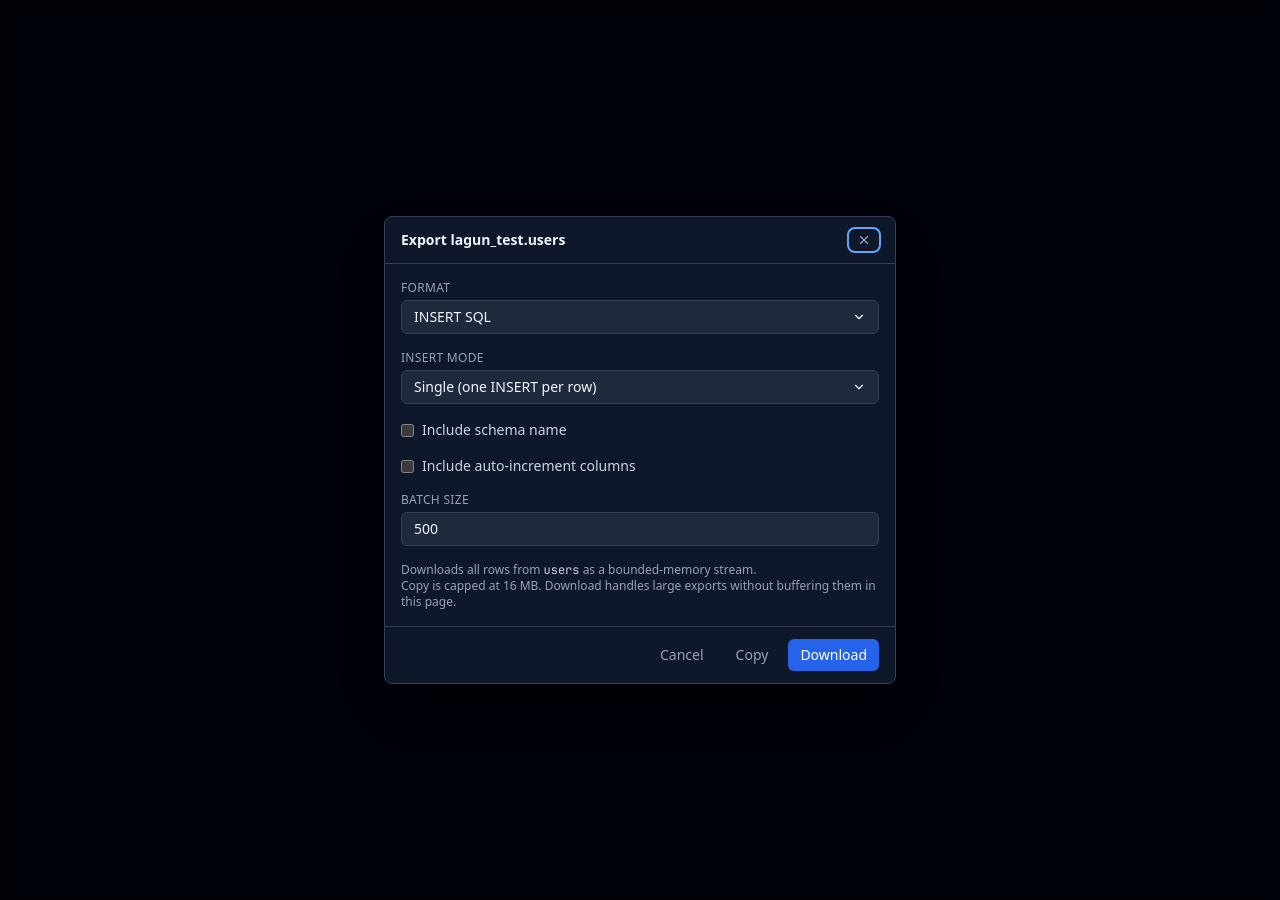
Test: ExportDialog copy stream guard › accepts a SQL body that carries the completion marker
What coordinates should you click on to do the following:
click the button "Copy"
I would click on:
 (752, 655)
Its box is x1=724 y1=639 x2=780 y2=671.
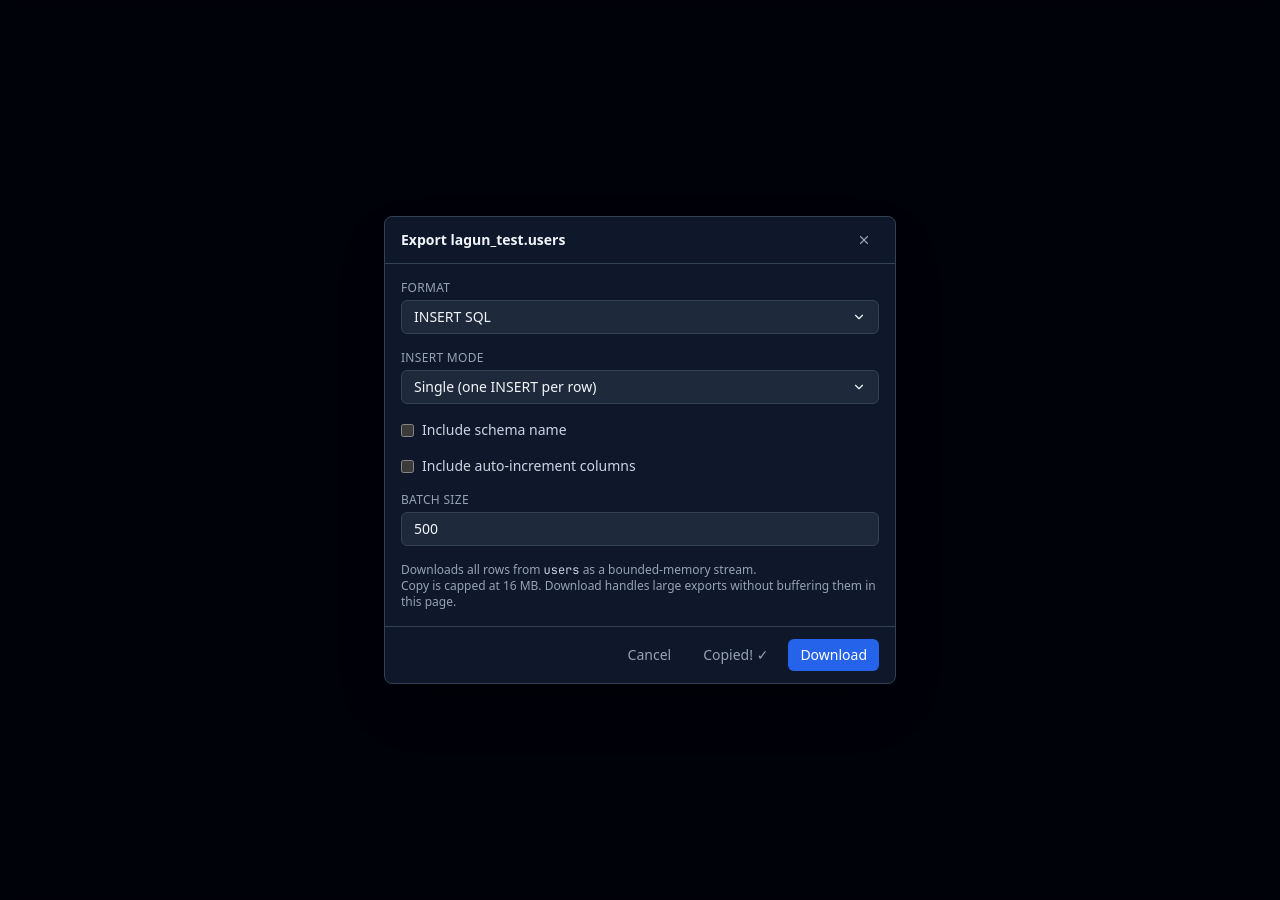
Check: the button "Copied! ✓" is shown, box x1=691 y1=639 x2=780 y2=671
